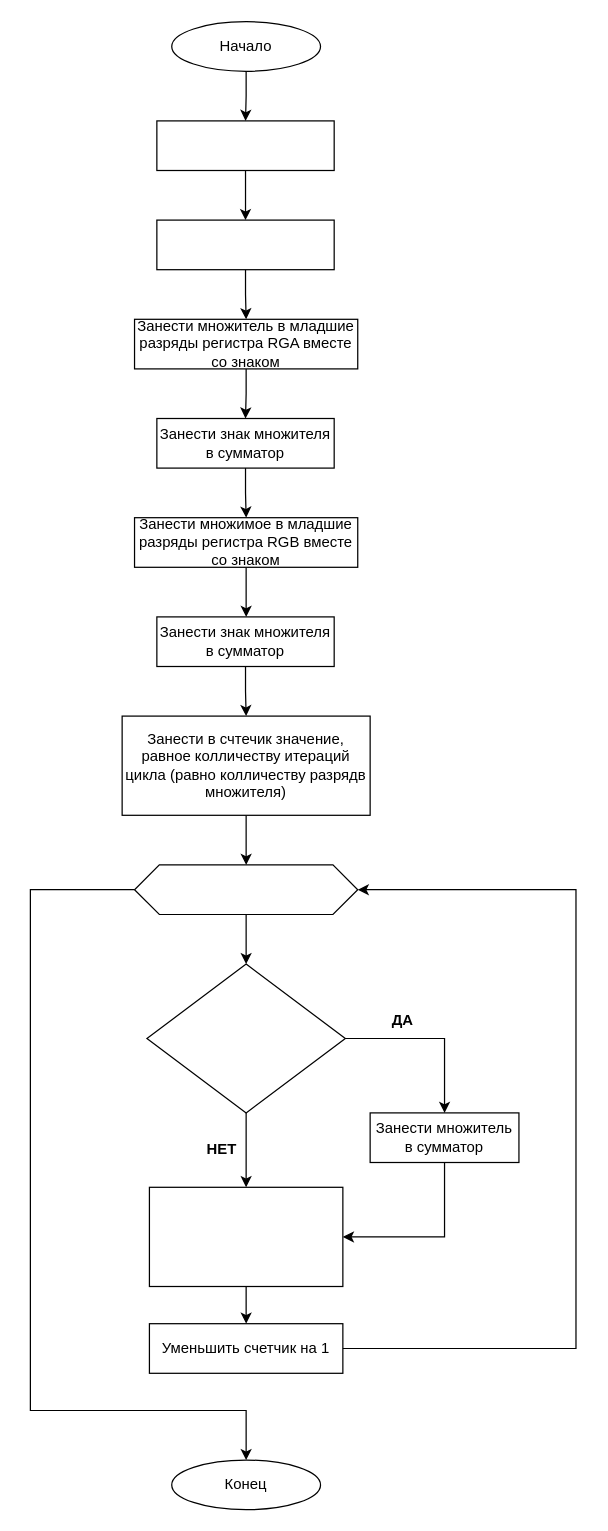
The diagram is 608 pixels wide and 1531 high, and some of its shapes have lost their labels. Each missing label, with the centre of its shape:
"В младшем разряде множителя единица?" belongs at point 245,1038.
"Очистка значащих и знаковых разрядов регистров RGA, RGB" belongs at point 245,145.
"Очистка значащих и знаковых регистров сумматора" belongs at point 245,244.
"Пока значение счетчика больше нуля" belongs at point 245,889.
"Сдвинуть множитель на один разряд вправо, множимое на один разряд влево" belongs at point 245,1236.
